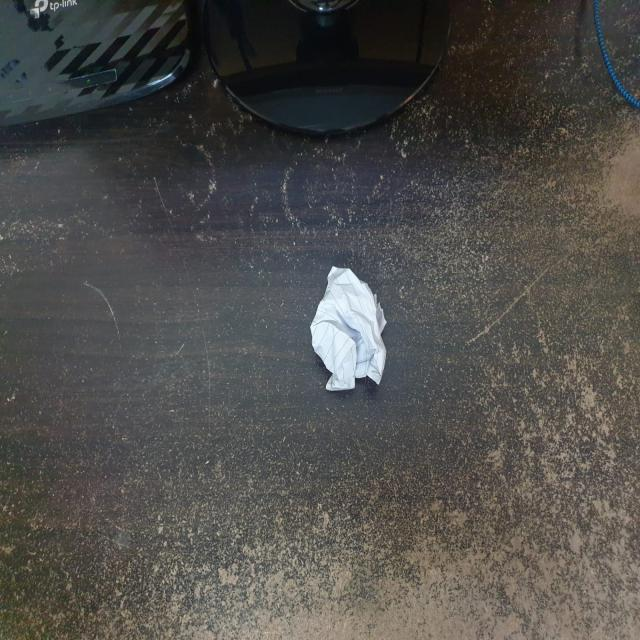Paper: (306, 264, 388, 400)
